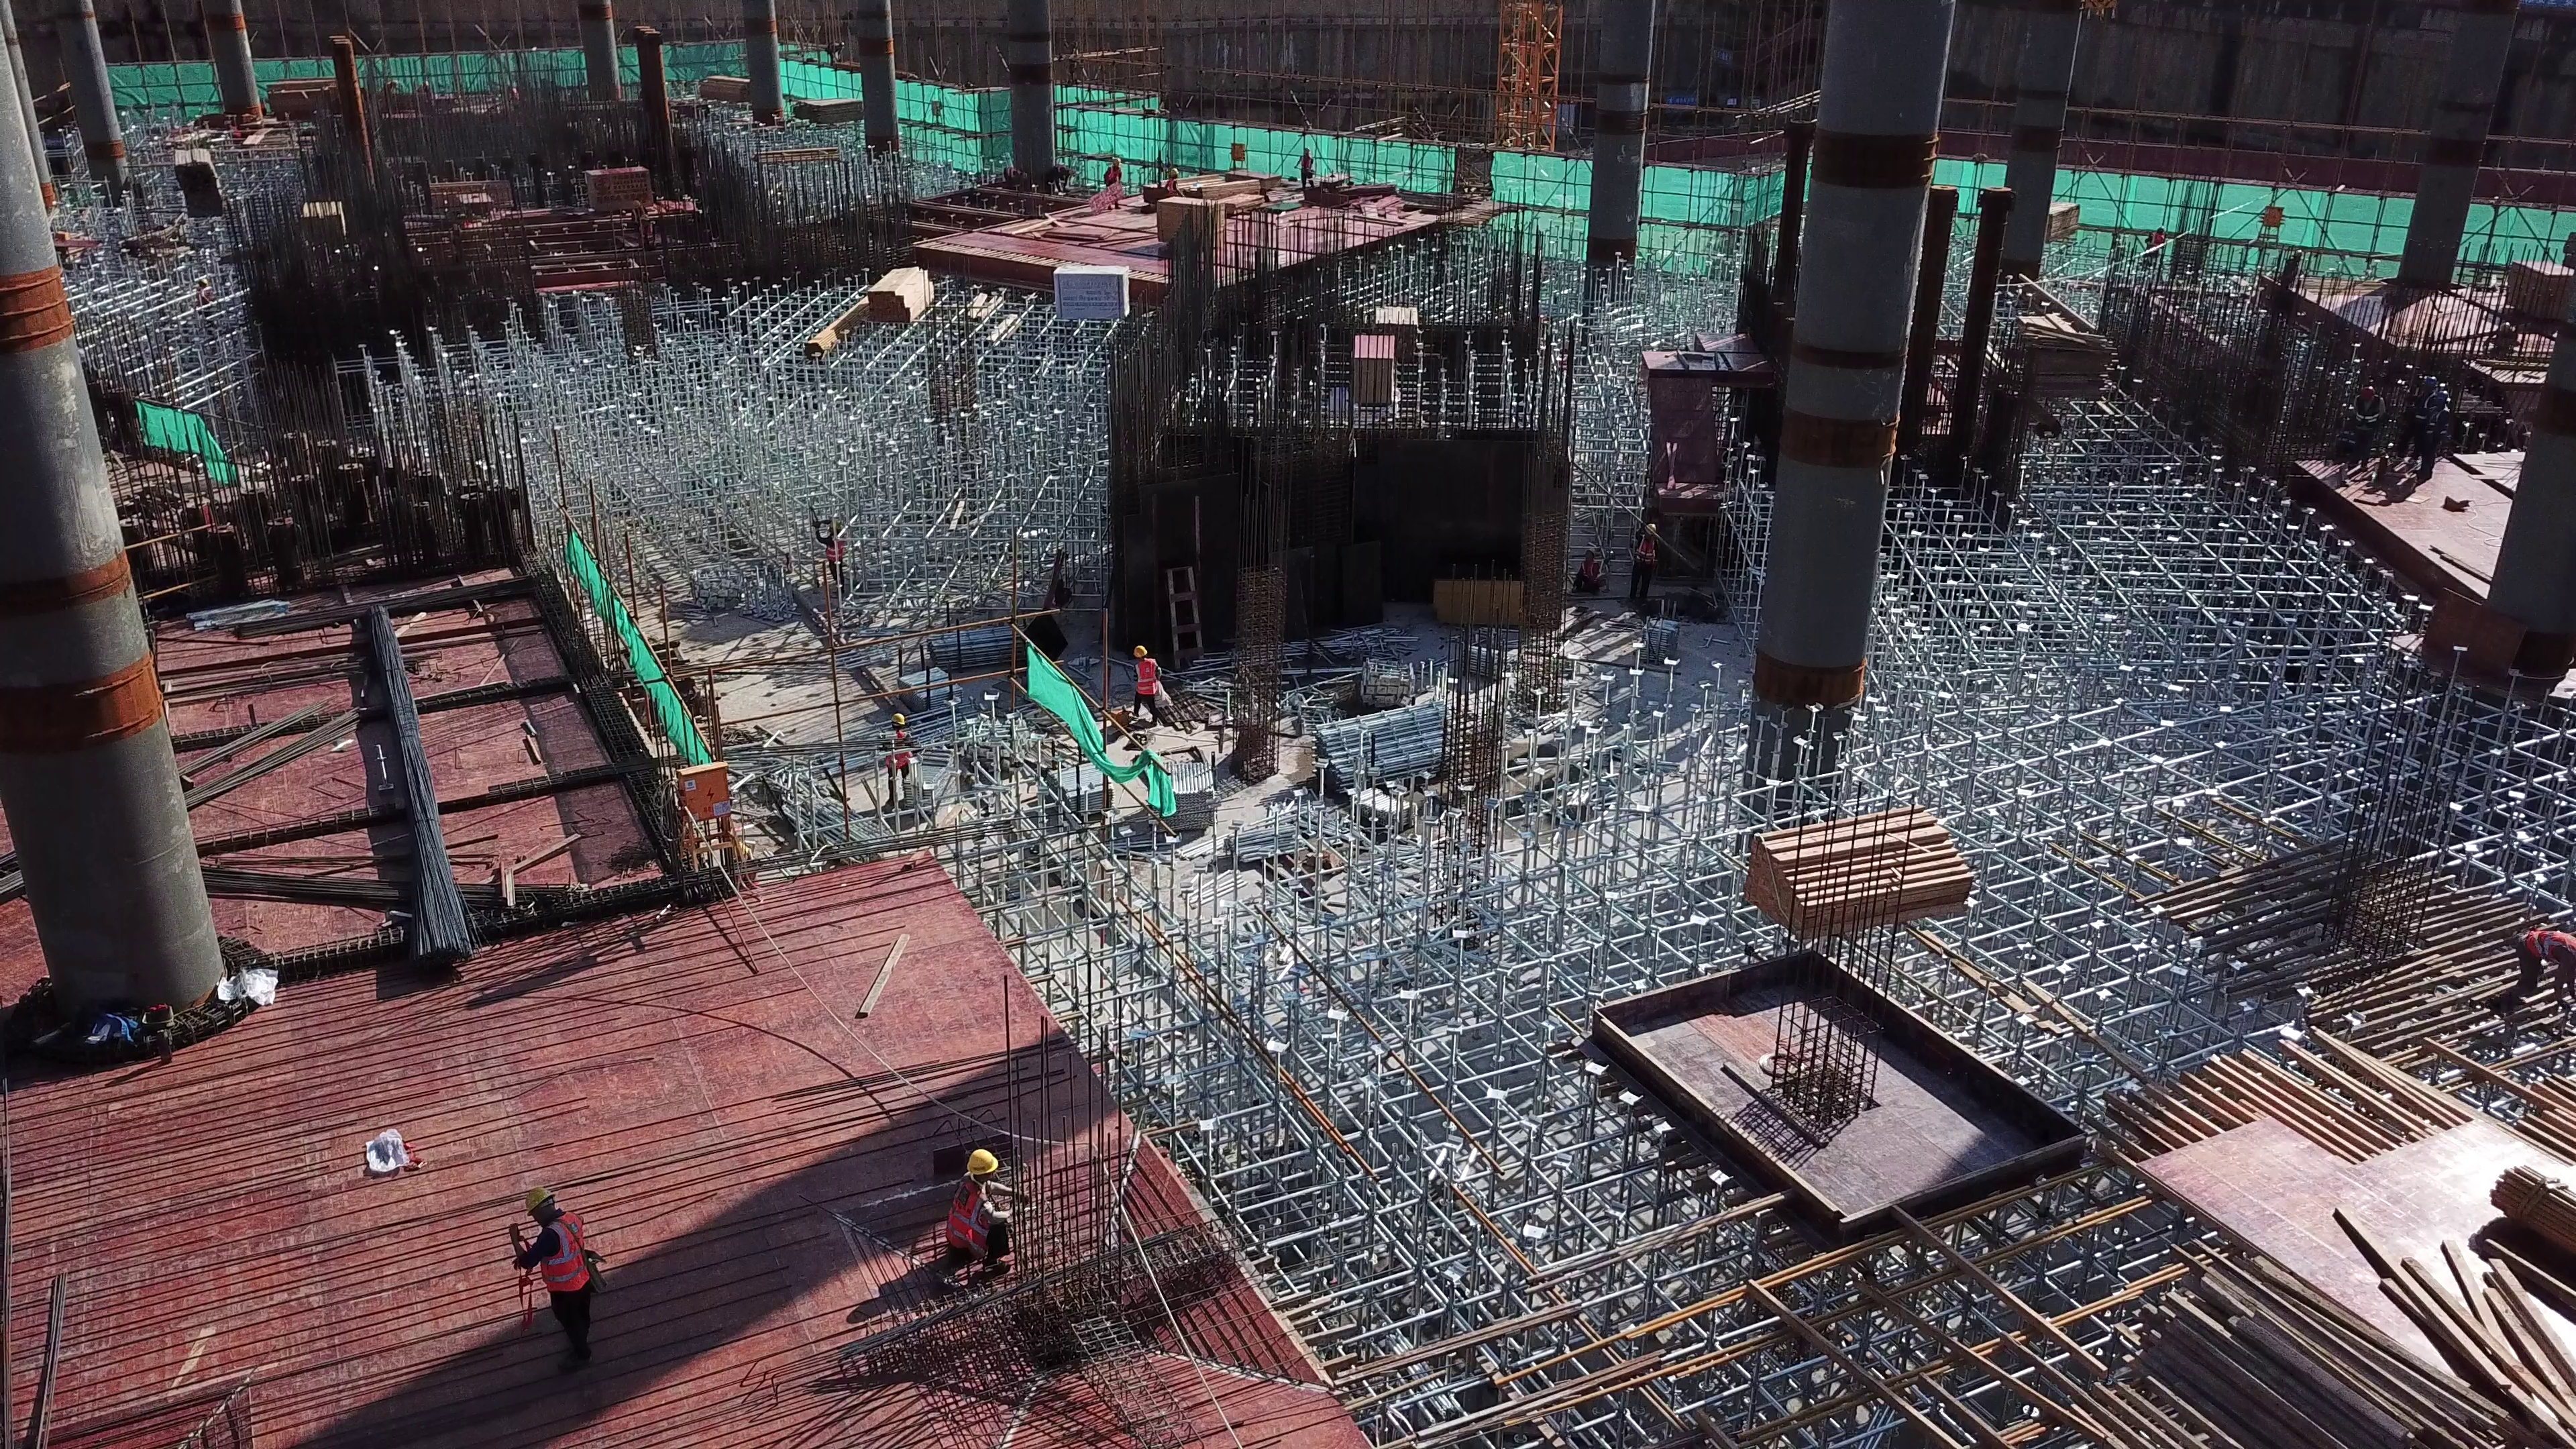board: (2151, 1120, 2535, 1322), (1357, 335, 1393, 398)
ebox: (662, 765, 750, 903), (2255, 204, 2292, 236), (1227, 145, 1246, 170)
helmet: (962, 1148, 1000, 1176), (517, 1187, 552, 1214), (1643, 523, 1663, 539), (1133, 647, 1148, 661), (890, 710, 906, 722)
person: (515, 1192, 604, 1356), (934, 1147, 1018, 1265), (2496, 918, 2576, 1028), (881, 716, 914, 805), (1627, 519, 1654, 608), (1127, 644, 1159, 721), (1570, 547, 1607, 603), (1102, 157, 1122, 213), (1292, 152, 1319, 192), (1162, 172, 1182, 200)
rebar: (360, 602, 476, 973)
scaffold: (1322, 715, 1482, 789), (1240, 801, 1334, 873), (1139, 758, 1218, 835), (1053, 756, 1116, 825), (1335, 793, 1421, 843), (926, 631, 1024, 667), (898, 669, 961, 723), (1636, 614, 1684, 667), (1458, 640, 1508, 680)
vest: (541, 1216, 594, 1291), (941, 1184, 995, 1253), (1128, 665, 1159, 698), (884, 734, 912, 765), (1632, 541, 1654, 573), (1581, 561, 1599, 583), (1108, 166, 1126, 185), (1165, 180, 1177, 194)
wood: (1733, 808, 1976, 938), (869, 270, 940, 335)
